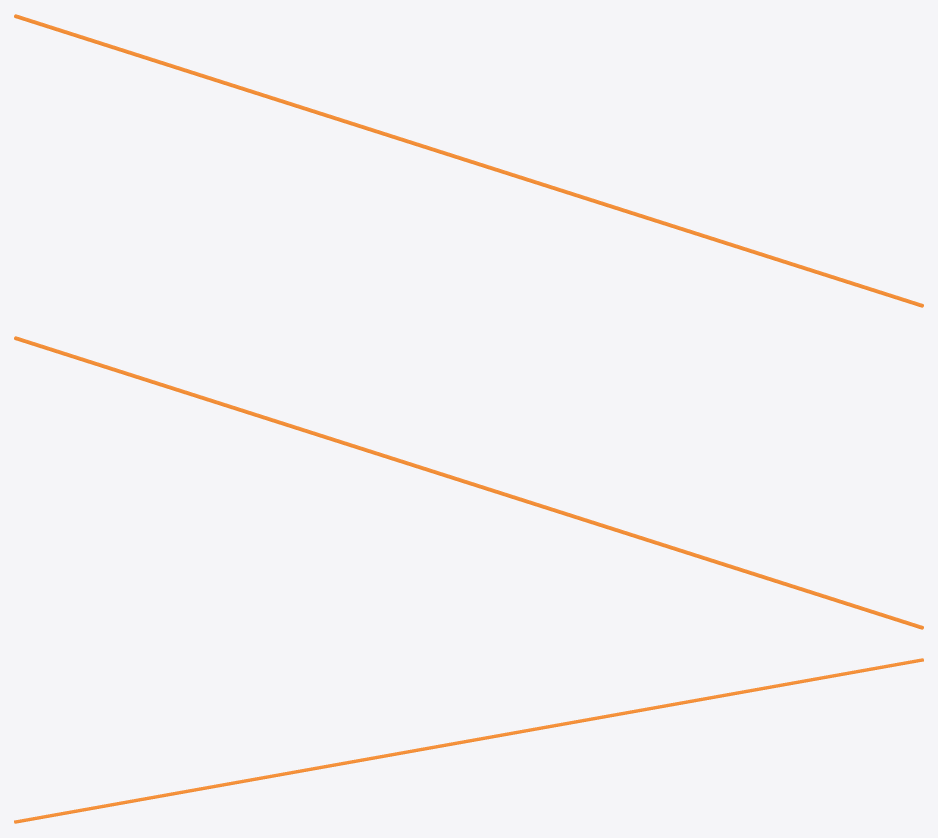
The picture shows the model from 3 angles, top to bottom: view 1: azimuth 30°, elevation 25°; view 2: azimuth 210°, elevation 25°; view 3: azimuth 270°, elevation 25°; orthographic projection. The views are drawn at different scales.
Parts seen in each view (by area): view 1: BezierCurve.009; view 2: BezierCurve.009; view 3: BezierCurve.009.
Boxes of the visible parts, x1,y1,x2,y2 form: BezierCurve.009: [14, 14, 923, 307]; BezierCurve.009: [14, 336, 923, 629]; BezierCurve.009: [14, 658, 923, 823].
Size of the model in its own units: 11.46 by 0.1 by 26.94.
